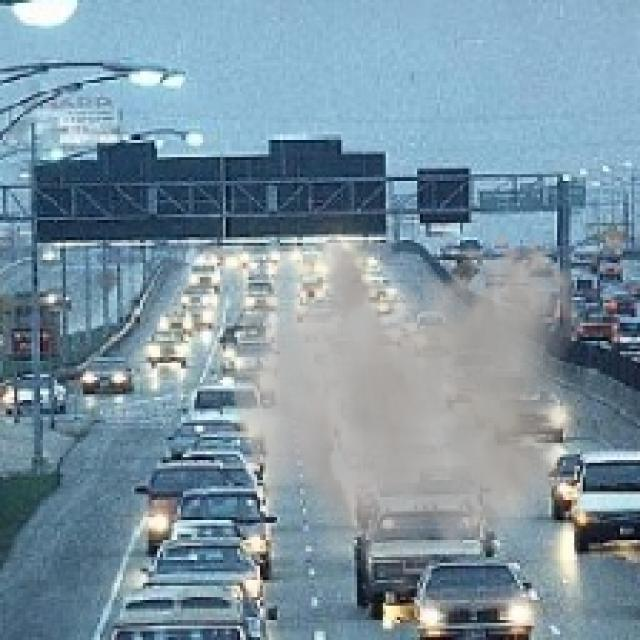smoke: (234, 228, 580, 608)
